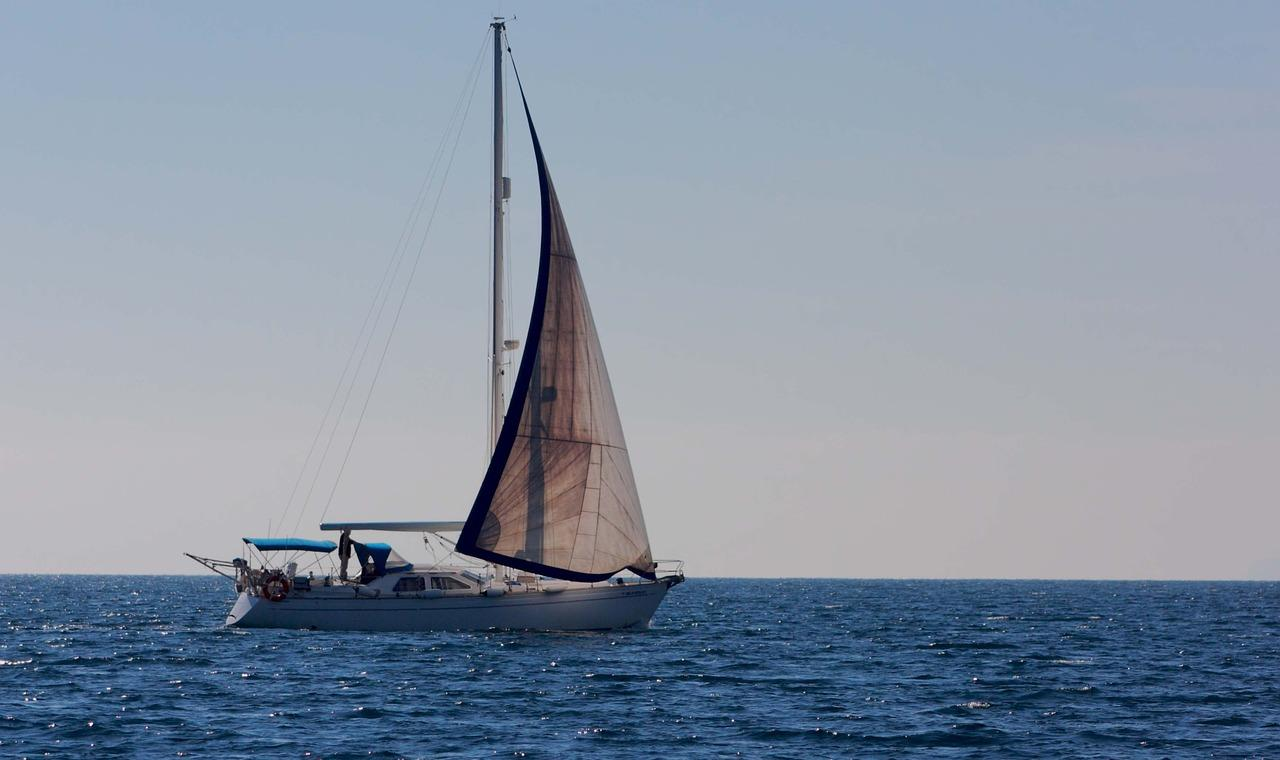Ship: (189, 14, 685, 633)
